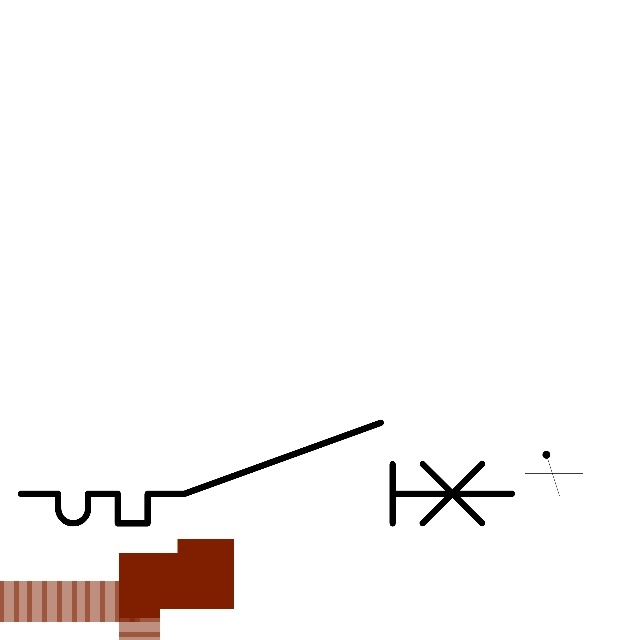interruptor_termomagnetico: (8, 410, 524, 536)
